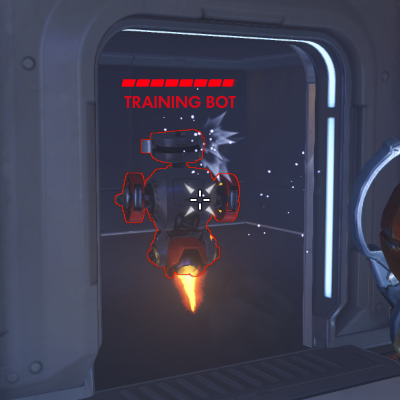hpbar: (121, 78, 237, 88)
